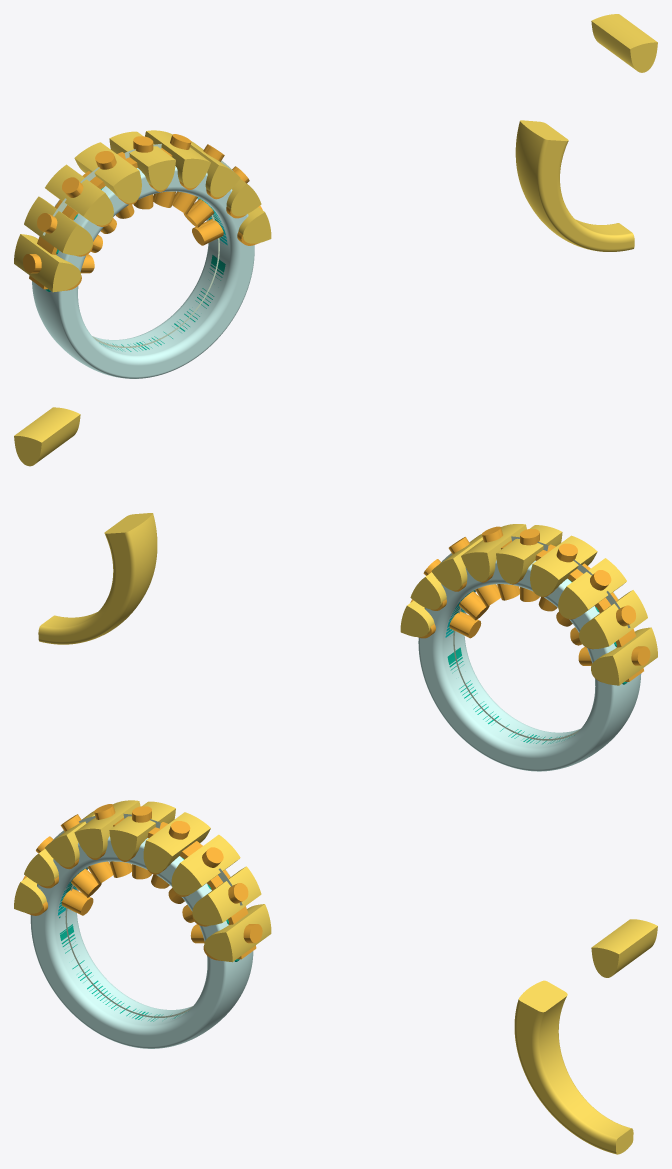
3 renders of one model, top to bottom at view 1: azimuth 30°, elevation 25°; view 2: azimuth 150°, elevation 25°; view 3: azimuth 330°, elevation 25°, orthographic.
Visible parts, largest first — view 1: VR433 -14-06-25 002(render).3dm, GemCutter (×6), Channel Cutter; view 2: VR433 -14-06-25 002(render).3dm, GemCutter (×5), Channel Cutter; view 3: VR433 -14-06-25 002(render).3dm, GemCutter (×6), Channel Cutter.
Boxes of the visible parts, x1=… form: VR433 -14-06-25 002(render).3dm: x1=14, y1=14, x2=657, y2=378; GemCutter (×6): x1=23, y1=134, x2=262, y2=273; Channel Cutter: x1=29, y1=147, x2=172, y2=289; VR433 -14-06-25 002(render).3dm: x1=14, y1=407, x2=657, y2=771; GemCutter (×5): x1=410, y1=526, x2=650, y2=665; Channel Cutter: x1=501, y1=540, x2=643, y2=681; VR433 -14-06-25 002(render).3dm: x1=14, y1=800, x2=657, y2=1154; GemCutter (×6): x1=22, y1=804, x2=262, y2=943; Channel Cutter: x1=113, y1=817, x2=256, y2=959.
Size of the model in its own units: 8.51 by 3.04 by 0.9347.
